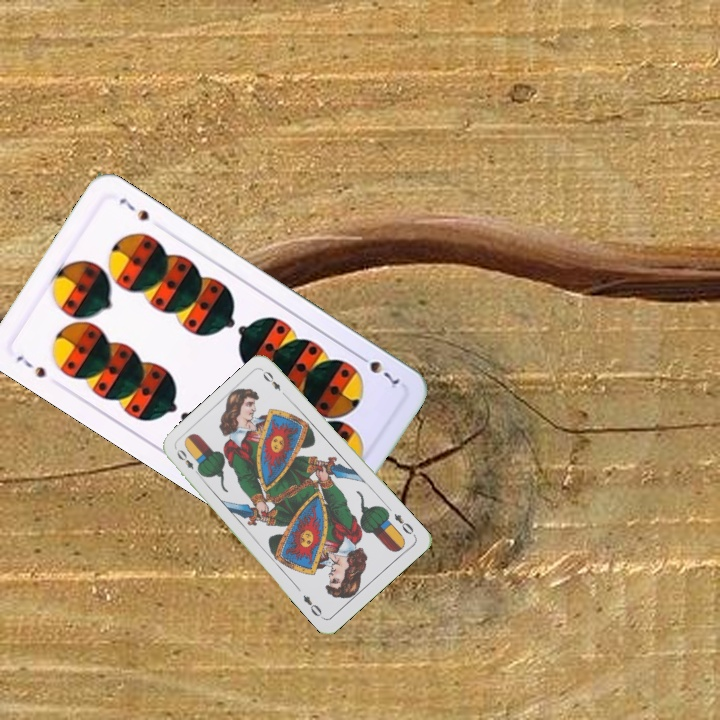EO: (172, 445, 204, 479), (390, 509, 416, 537)
S7: (353, 349, 402, 391), (12, 351, 49, 381)
